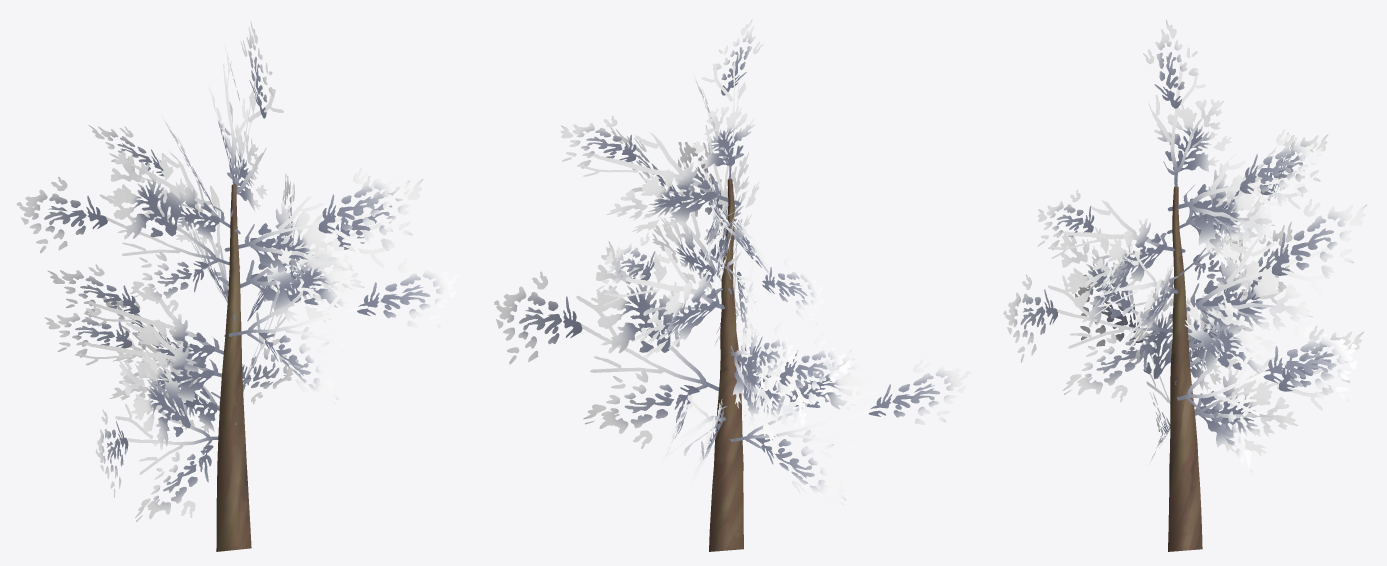
File: Tree_Small.fbx
3 views of the same model, side by side, from view 1: azimuth 30°, elevation 25°; view 2: azimuth 150°, elevation 25°; view 3: azimuth 270°, elevation 25° (orthographic).
Visible parts, largest first — view 1: gmtk2026_PineTree_Small.002, gmtk2026_PineTree_Small.001; view 2: gmtk2026_PineTree_Small.002, gmtk2026_PineTree_Small.001; view 3: gmtk2026_PineTree_Small.002, gmtk2026_PineTree_Small.001.
Part boxes in pixels (bbox=[...]): gmtk2026_PineTree_Small.002: bbox=[16, 21, 459, 521]; gmtk2026_PineTree_Small.001: bbox=[216, 184, 251, 551]; gmtk2026_PineTree_Small.002: bbox=[494, 19, 970, 504]; gmtk2026_PineTree_Small.001: bbox=[709, 179, 743, 551]; gmtk2026_PineTree_Small.002: bbox=[1003, 19, 1366, 472]; gmtk2026_PineTree_Small.001: bbox=[1168, 187, 1202, 551].
Bounding box in the file's own units: 188 × 271 × 174.
